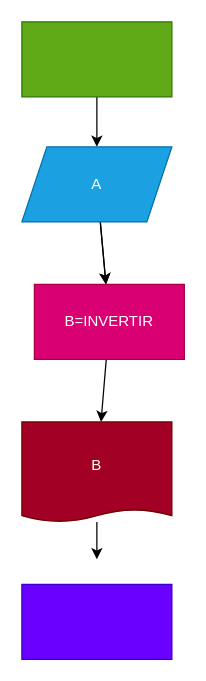
Some shapes in this 206 by 681 pixel diagram are drawn without their labels. The box of each missing label's shape, as (x1, y1, x2, y2) in pixels:
FIN: (21, 583, 172, 659)
INICIO: (21, 21, 172, 97)
